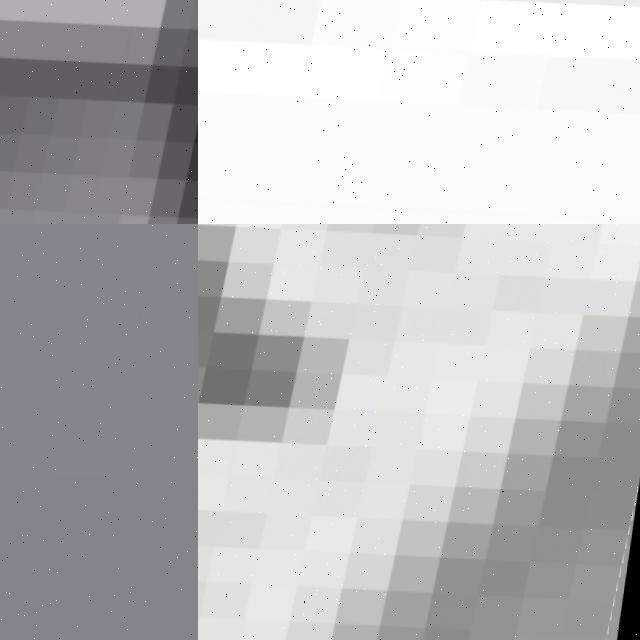drone: (198, 224, 640, 640), (198, 0, 640, 224), (0, 0, 198, 224)
